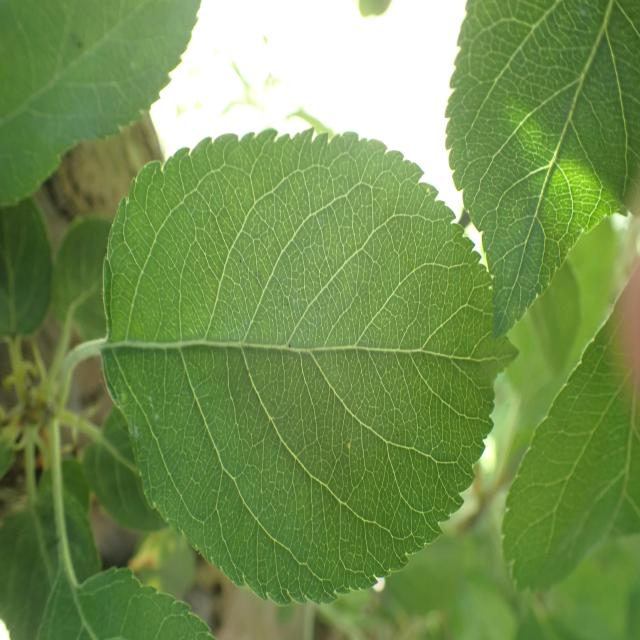healthy: (102, 125, 519, 606), (444, 0, 639, 339), (501, 266, 640, 595), (0, 0, 202, 210), (0, 461, 101, 639), (36, 564, 215, 640), (82, 410, 169, 532), (54, 214, 114, 348), (0, 197, 54, 344)
